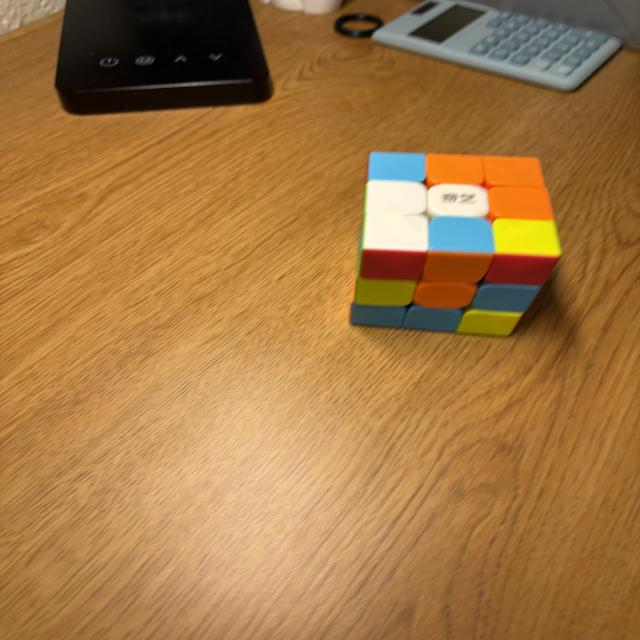Rubiks Cube: (345, 151, 562, 338)
